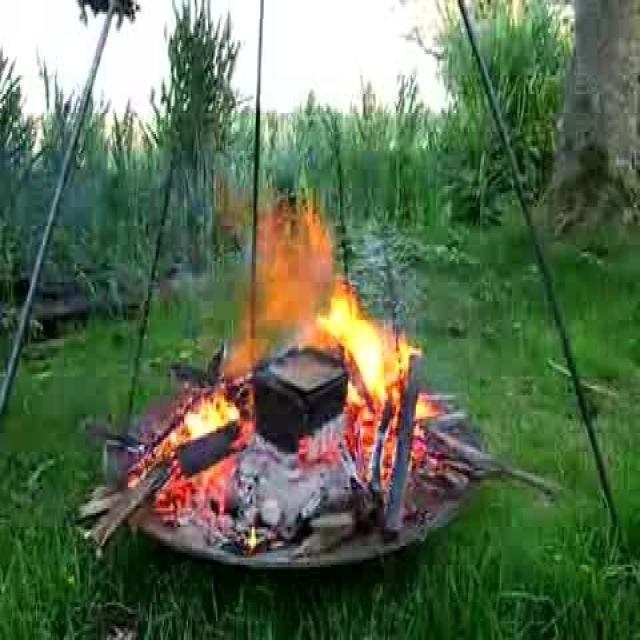Fire: (176, 215, 412, 440)
